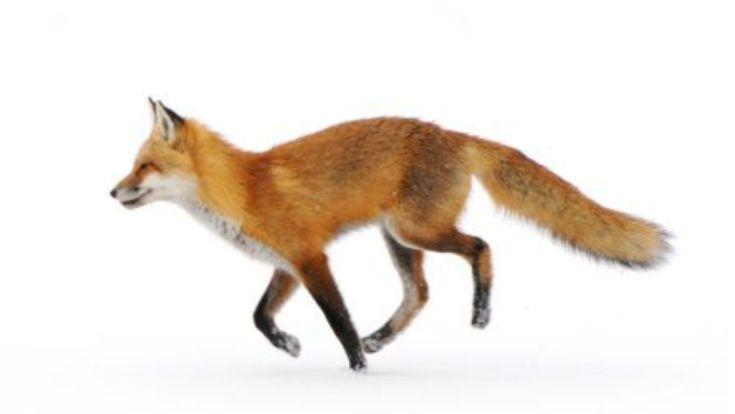fox: (101, 87, 664, 369)
